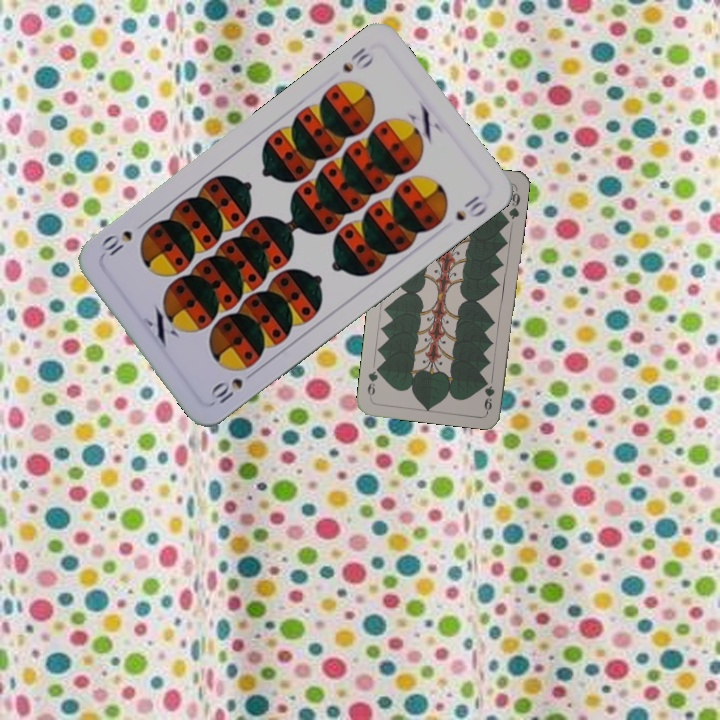G9: (480, 382, 497, 413)
S10: (206, 366, 259, 407), (338, 42, 377, 76)
